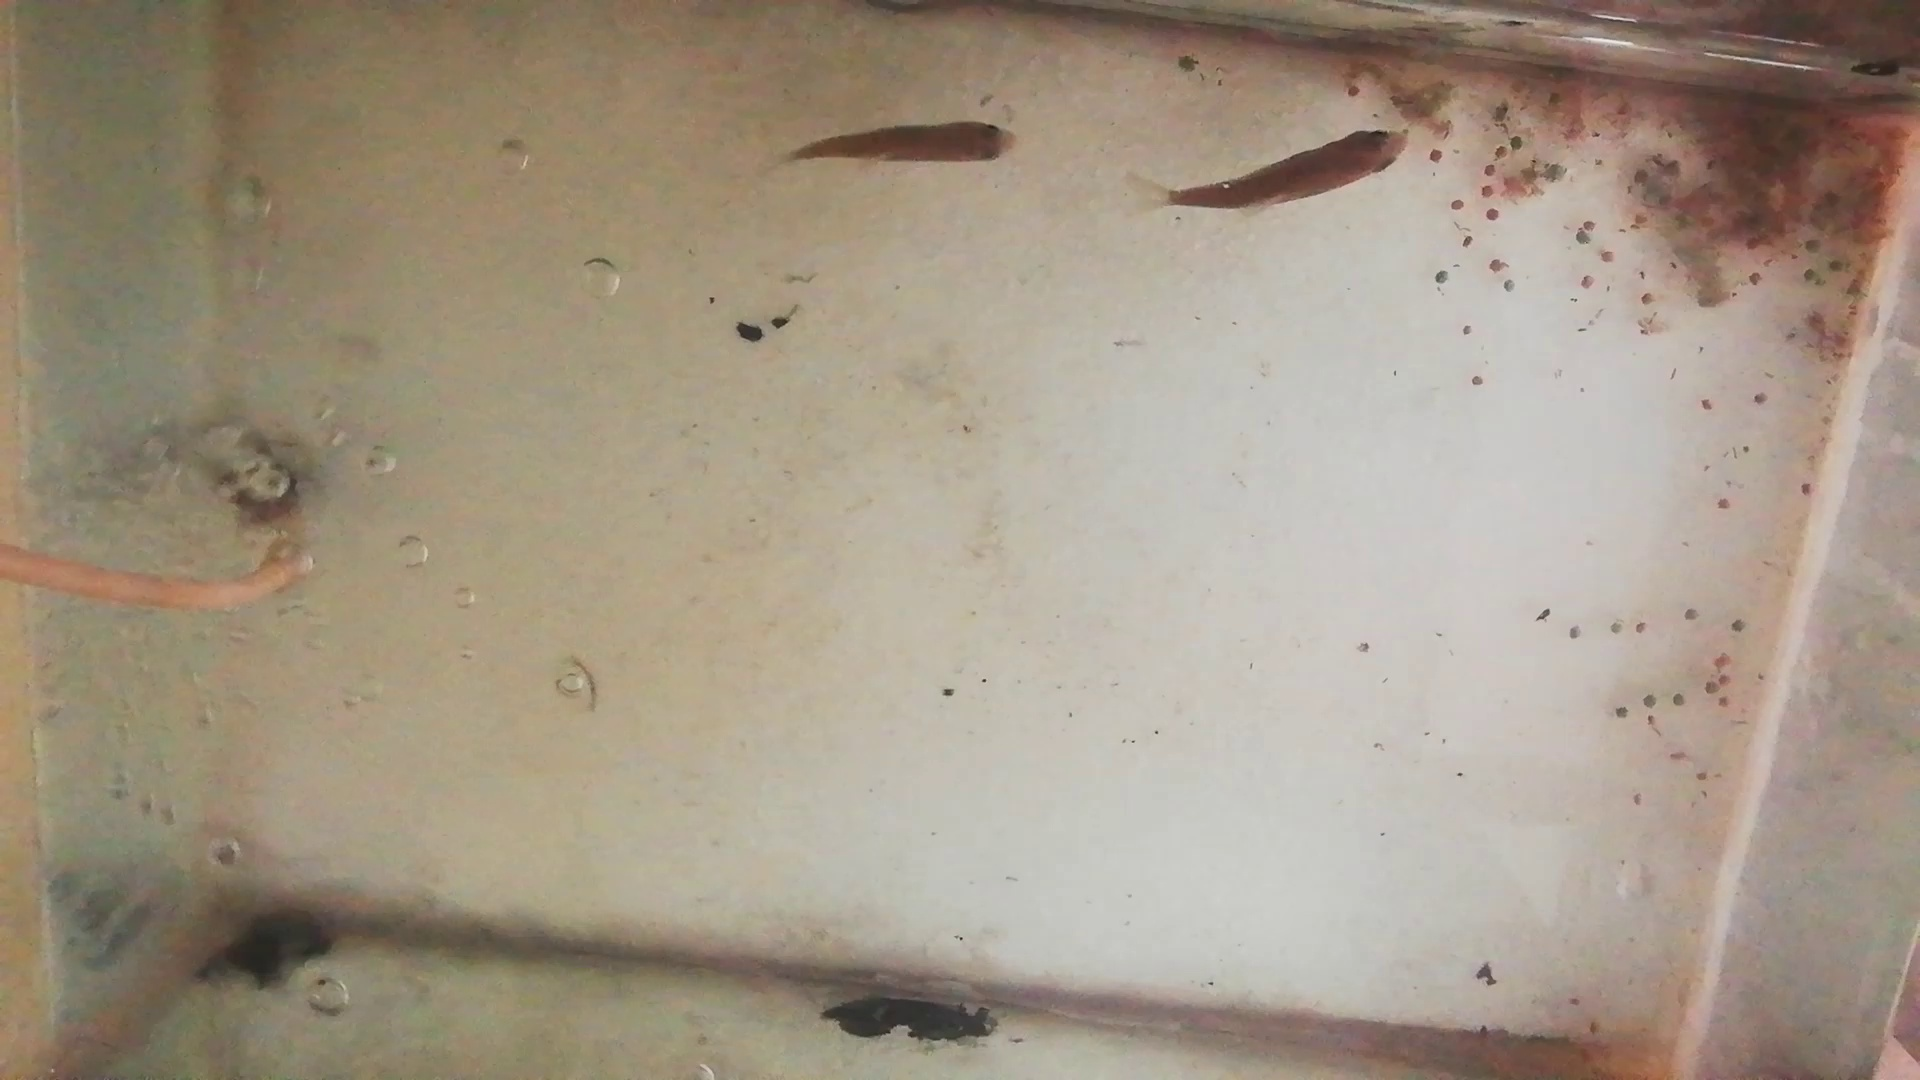fish: (1168, 127, 1414, 214), (799, 117, 1021, 170)
